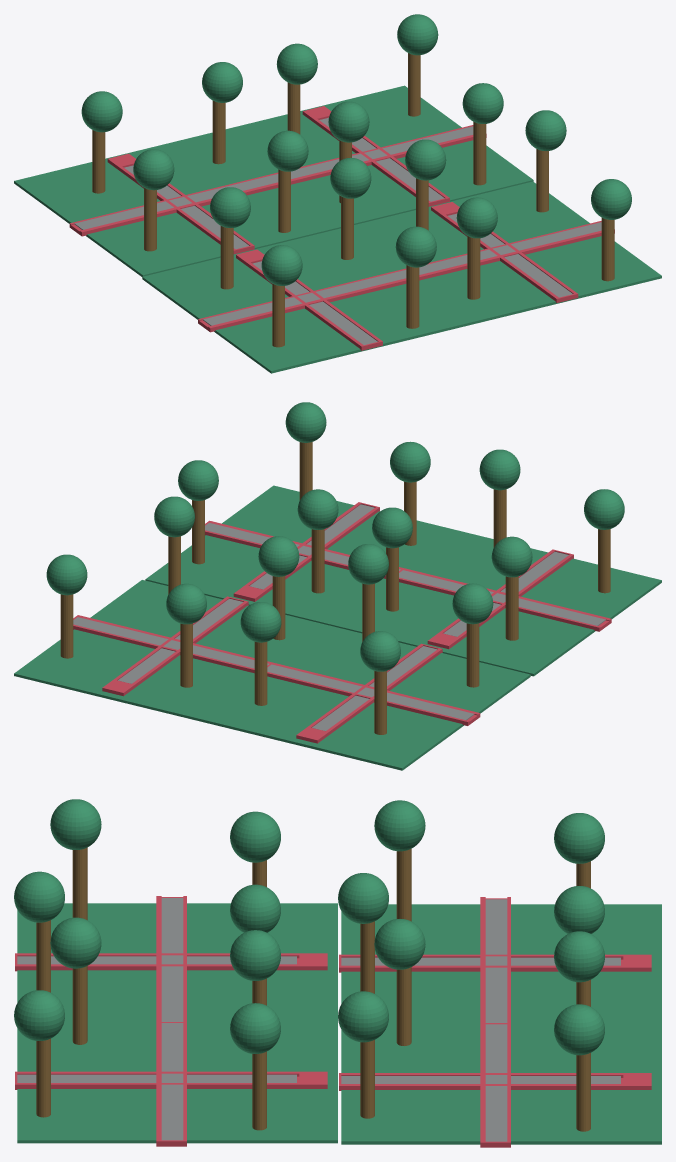
Rendered from Ciudad.glb.
3 renders of one model, top to bottom at view 1: azimuth 30°, elevation 25°; view 2: azimuth 150°, elevation 25°; view 3: azimuth 270°, elevation 25°, orthographic. The views are drawn at different scales.
Visible parts, largest first — view 1: Mesh_Mesh_head_geo.001_lambert2SG.001; view 2: Mesh_Mesh_head_geo.001_lambert2SG.001; view 3: Mesh_Mesh_head_geo.001_lambert2SG.001.
Boxes of the visible parts, x1,y1,x2,y2 form: Mesh_Mesh_head_geo.001_lambert2SG.001: (14, 14, 661, 373); Mesh_Mesh_head_geo.001_lambert2SG.001: (14, 402, 661, 770); Mesh_Mesh_head_geo.001_lambert2SG.001: (14, 799, 661, 1147).
Bounding box in the file's own units: 514 × 122 × 570.
